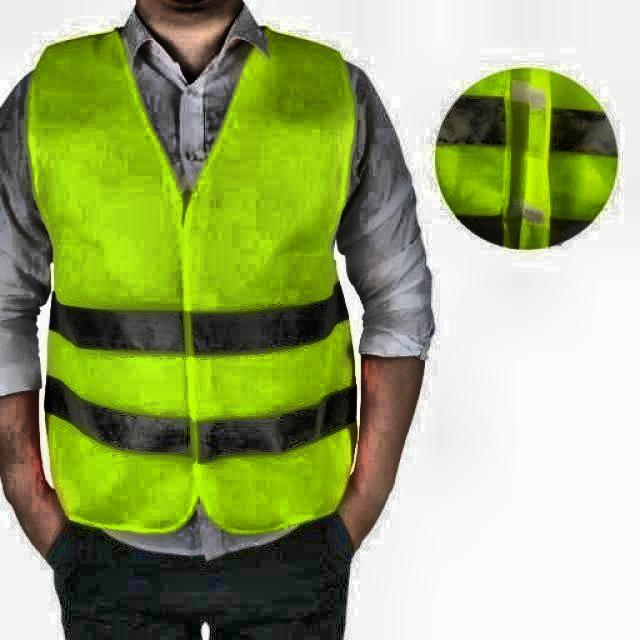safety_jacket: (32, 40, 362, 515)
